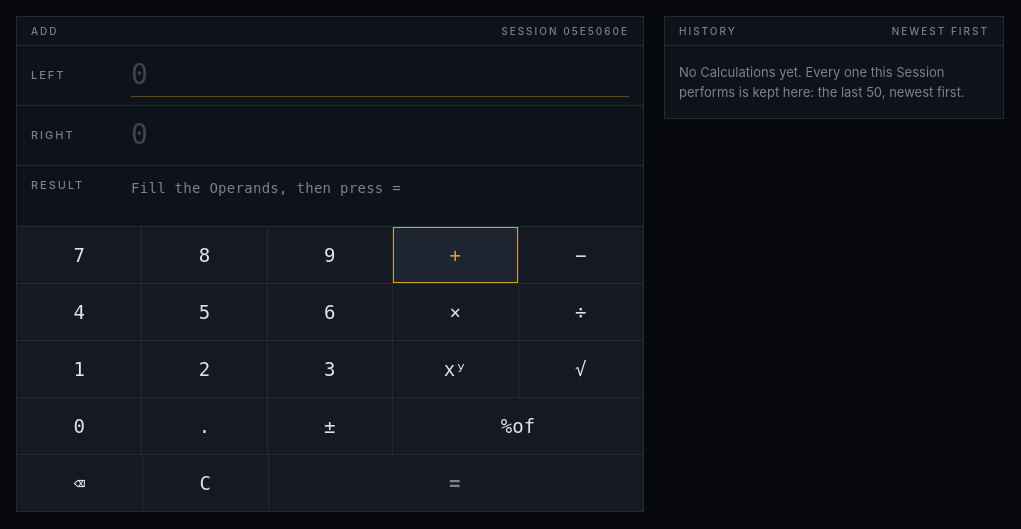
Scenario: an Operation of a different arity re-labels the fields it takes
Click the button with test id "op-sqrt" at point(581, 369), box [518, 341, 643, 397]
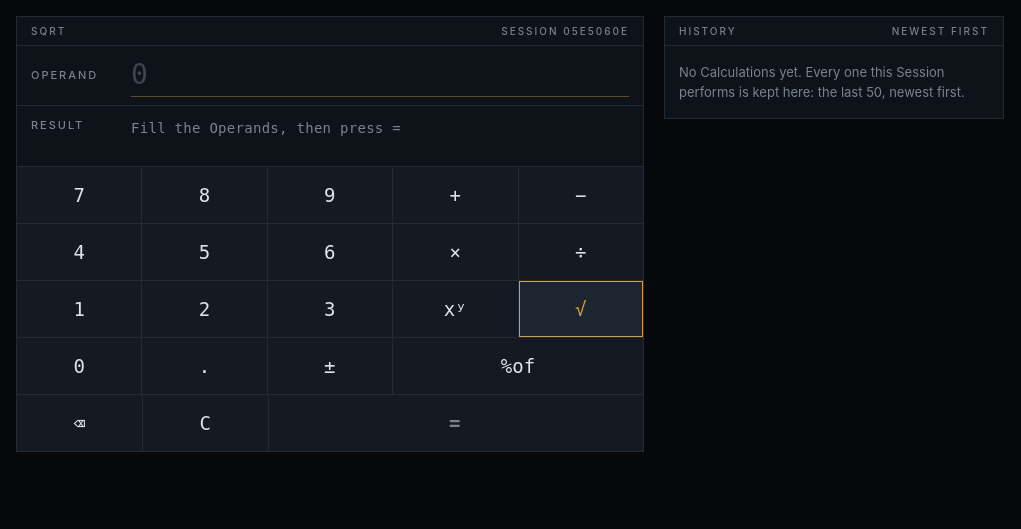
Check: the field with test id "operand-operand" is shown, box [131, 54, 629, 97]
Check: the text with test id "operation-name" reads "sqrt", box [31, 25, 66, 37]
Click the button with test id "key-9" at point(330, 195), box [268, 167, 392, 223]
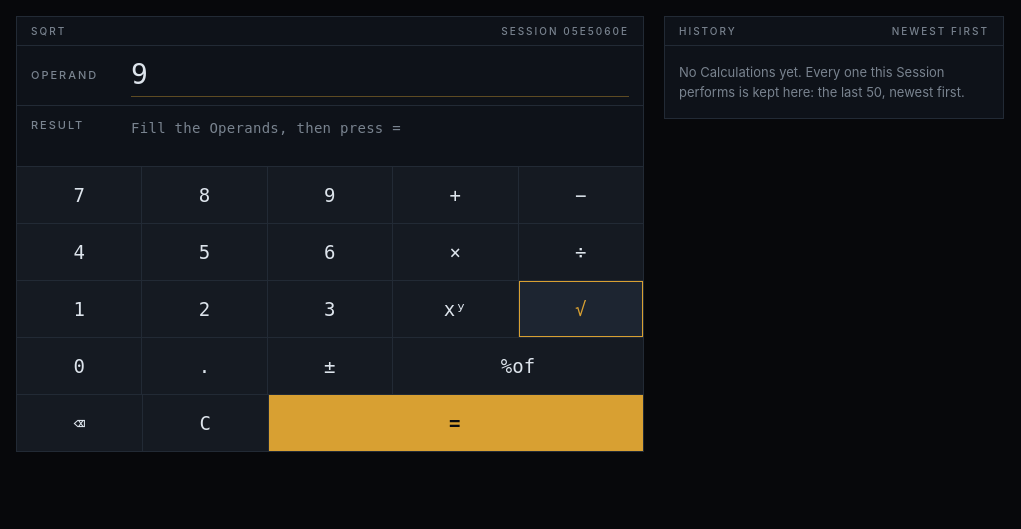
Check: the field with test id "operand-operand" holds "9", box [131, 54, 629, 97]
